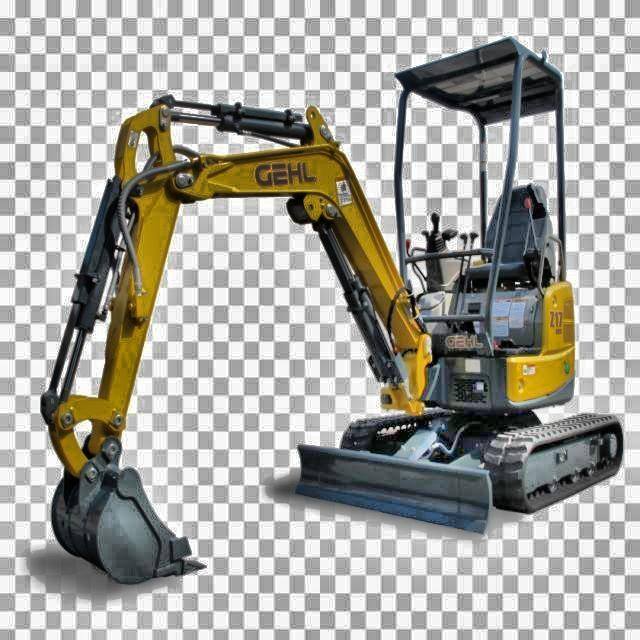excavator: (34, 34, 628, 584)
